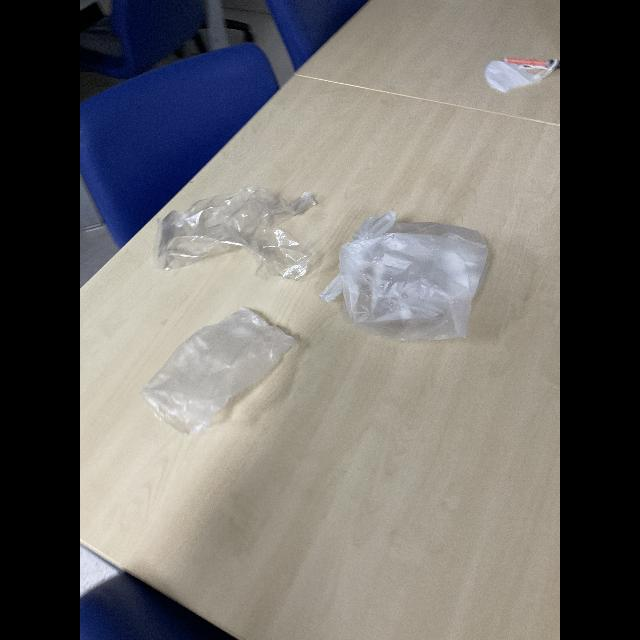plastic_bag: (328, 196, 512, 346)
scrap_paper: (138, 296, 312, 434), (142, 172, 334, 286)
